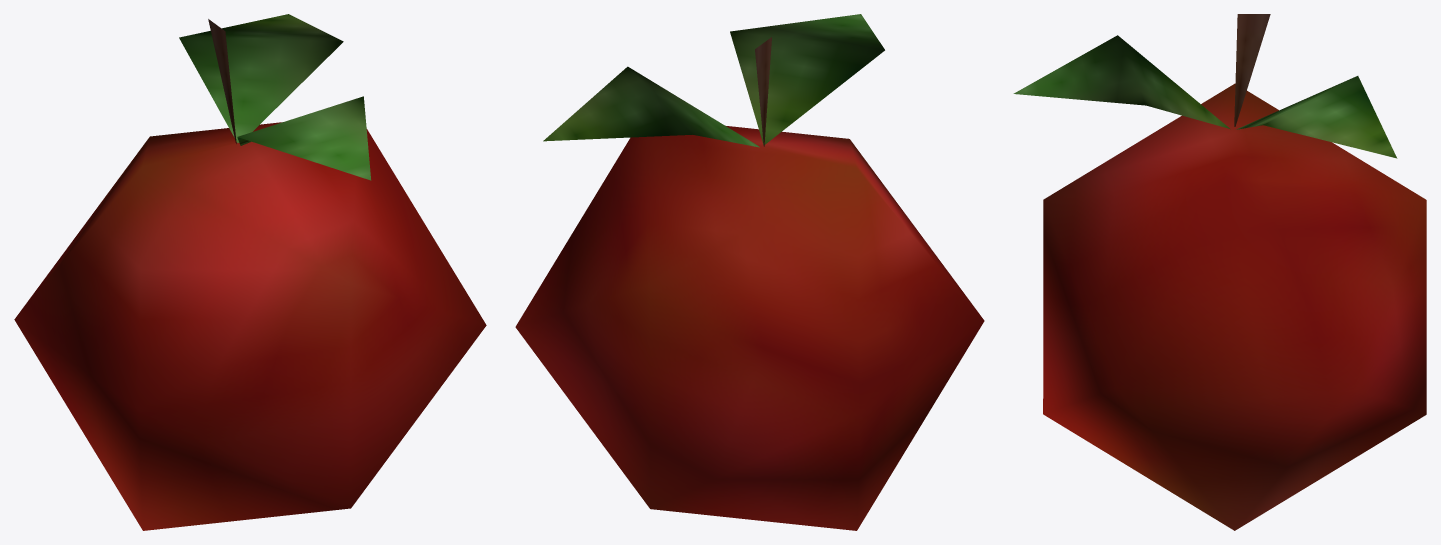
The model's file is KM_VOB_APPLE.glb.
The picture shows the model from 3 angles, left to right: view 1: azimuth 30°, elevation 25°; view 2: azimuth 150°, elevation 25°; view 3: azimuth 270°, elevation 25°; orthographic projection. The views are drawn at different scales.
Parts seen in each view (by area): view 1: Mesh; view 2: Mesh; view 3: Mesh.
Part boxes in pixels (box(x1,y1,x2,y2)): Mesh: box(14, 14, 486, 530); Mesh: box(515, 14, 984, 530); Mesh: box(1013, 14, 1426, 530).
Size of the model in its own units: 0.1667 by 0.2187 by 0.1798.
1 material, 1 textured.
